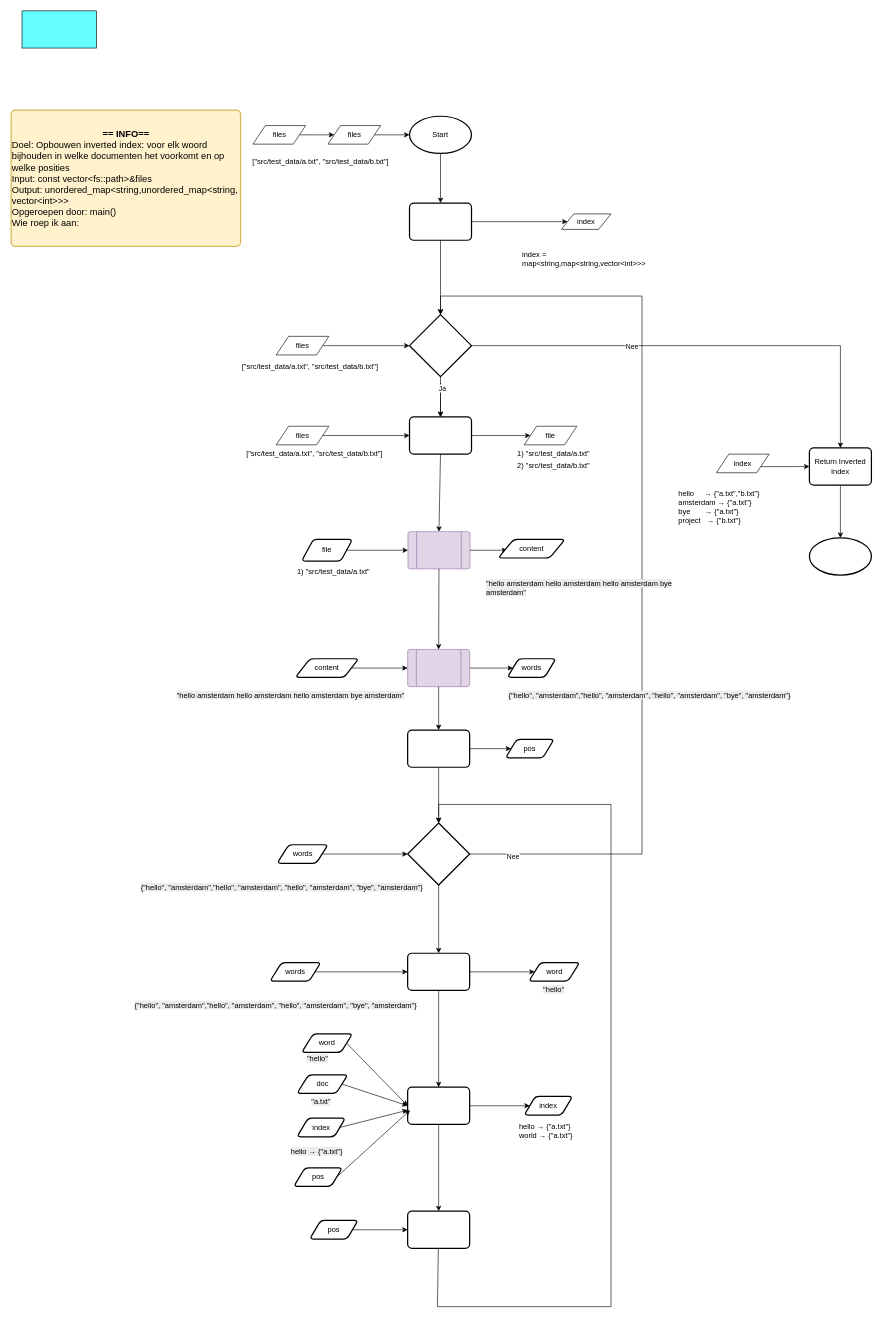
Some shapes in this 883 by 1322 pixel diagram are drawn without their labels. The box of each missing label's shape, as (x1, y1, x2, y2) in pixels:
Declareer en initialiseer op 0 een integer positie: (407, 729, 470, 768)
Eind: (808, 537, 872, 575)
Initialize Index: (409, 202, 472, 241)
Inverted Index: (21, 10, 96, 48)
Pak volgende File: (409, 416, 472, 454)
Pak volgende woord: (407, 952, 470, 991)
readFile: (407, 531, 470, 569)
tokenize: (407, 649, 470, 687)
Verhoog positie met 1: (407, 1210, 470, 1249)
Voeg word en positie toe aan index: (407, 1086, 470, 1125)
Zijn er nog files: (409, 314, 472, 377)
Zijn er nog woorden: (407, 822, 470, 885)
